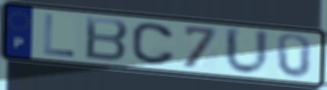0: (274, 33, 313, 81)
7: (182, 24, 219, 71)
B: (83, 15, 131, 64)
C: (130, 21, 178, 67)
L: (42, 12, 76, 59)
U: (223, 25, 272, 78)
